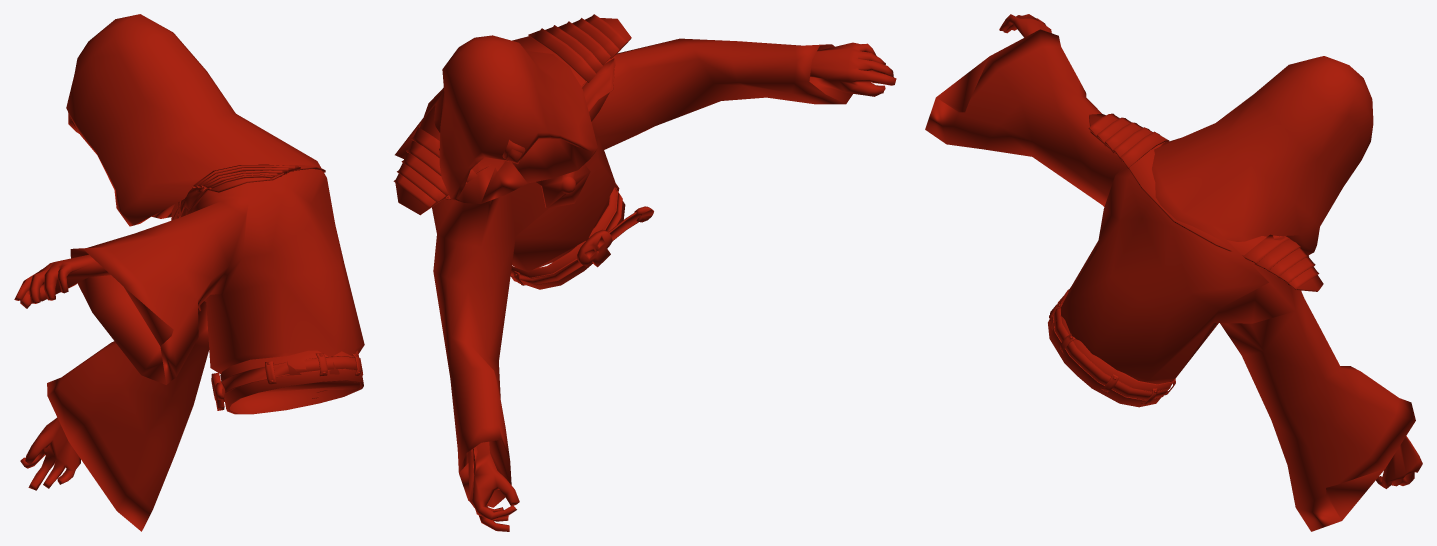
Rendered from top_000052.obj.
3 renders of one model, left to right at view 1: azimuth 30°, elevation 25°; view 2: azimuth 150°, elevation 25°; view 3: azimuth 270°, elevation 25°, orthographic. The views are drawn at different scales.
Visible parts, largest first — view 1: LowPoly_Warlock.000_Plane.005; view 2: LowPoly_Warlock.000_Plane.005; view 3: LowPoly_Warlock.000_Plane.005.
Boxes of the visible parts, bbox=[...] form: LowPoly_Warlock.000_Plane.005: bbox=[14, 14, 364, 531]; LowPoly_Warlock.000_Plane.005: bbox=[393, 14, 896, 531]; LowPoly_Warlock.000_Plane.005: bbox=[925, 14, 1422, 531].
Bounding box in the file's own units: 1.2 × 1.43 × 1.36.
